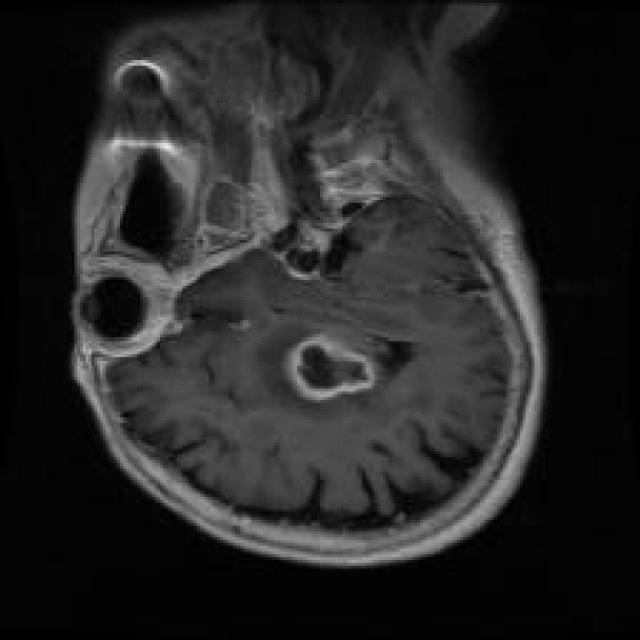glioma_tumor: (272, 316, 450, 408)
